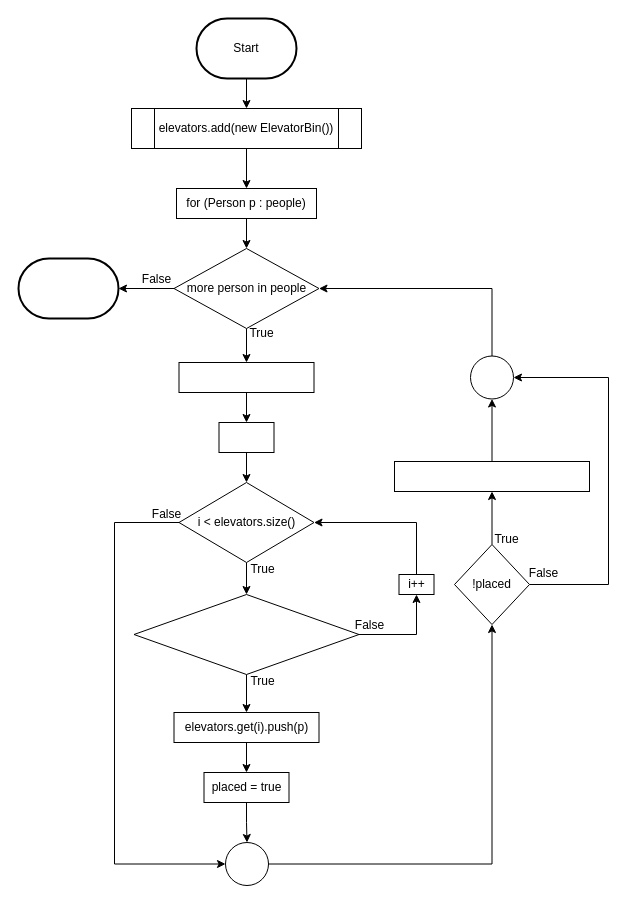
Image size: 634x903. Some labels were removed from this diagram. The shapes that lost their labels are listed below. From the top down, each one's centre as x and y in pixels, then its label:
At point (68, 288): "End".
At point (246, 377): "boolean placed = false".
At point (246, 437): "int i = 0".
At point (492, 476): "elevators.add(new ElevatorBin(p))".
At point (246, 634): "elevators.get(i).canHandle(p)".
